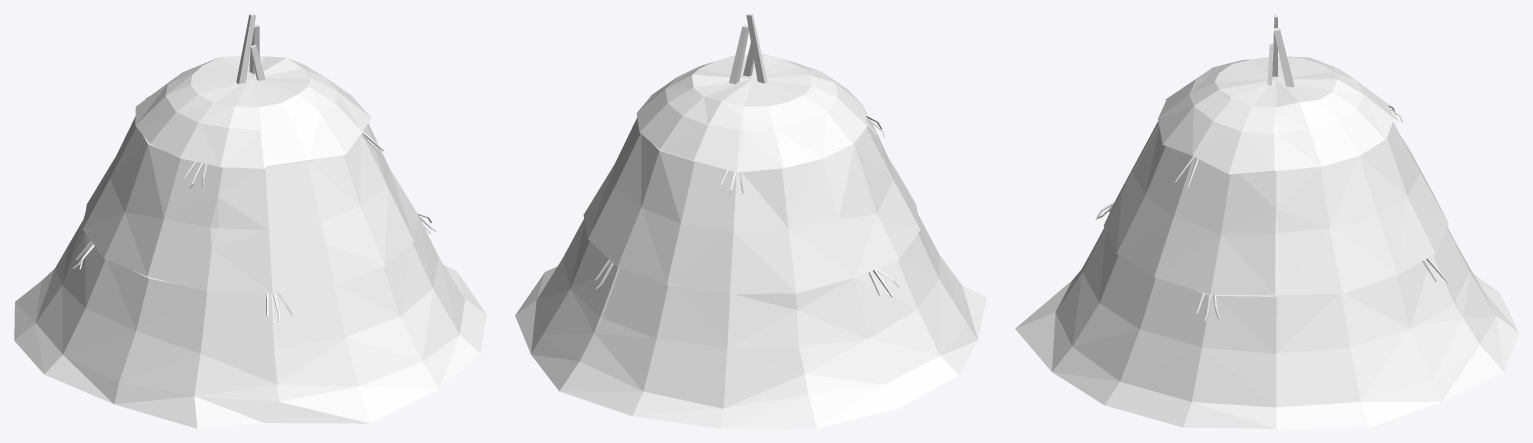
The model's file is Prop_Hay_Pile_01.glb.
3 renders of one model, left to right at view 1: azimuth 30°, elevation 25°; view 2: azimuth 150°, elevation 25°; view 3: azimuth 270°, elevation 25°, orthographic.
Visible parts, largest first — view 1: Prop_Hay_Pile_01; view 2: Prop_Hay_Pile_01; view 3: Prop_Hay_Pile_01.
Boxes of the visible parts, box(x1,y1,x2,y2) form: Prop_Hay_Pile_01: box(14, 14, 486, 428); Prop_Hay_Pile_01: box(515, 14, 986, 428); Prop_Hay_Pile_01: box(1015, 14, 1518, 428).
Size of the model in its own units: 3.18 by 2.3 by 3.3.
Materials: 1 (1 with a texture image).
